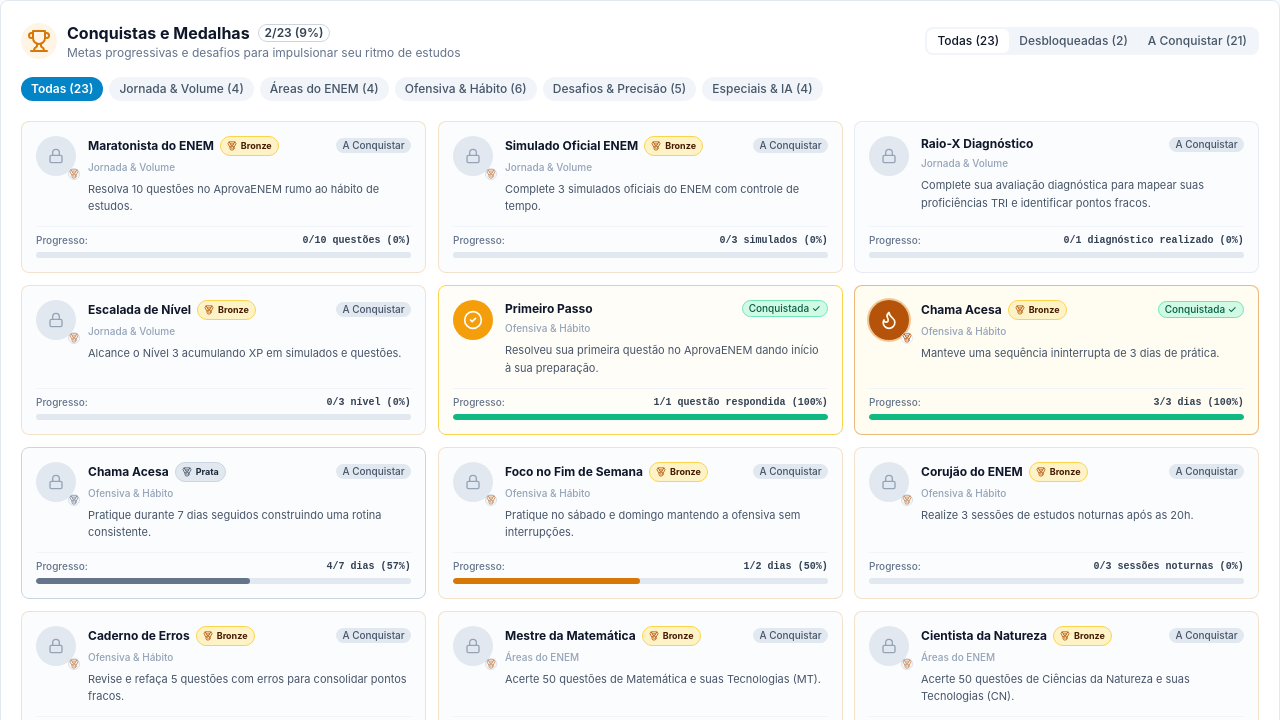
Test: BadgeShelf Component › never displays 100% progress on locked badges
Note: Click "A Conquistar" to view only locked badges
Click the tab "A Conquistar (21)".
click(1197, 41)  # box x1=1138 y1=29 x2=1257 y2=53
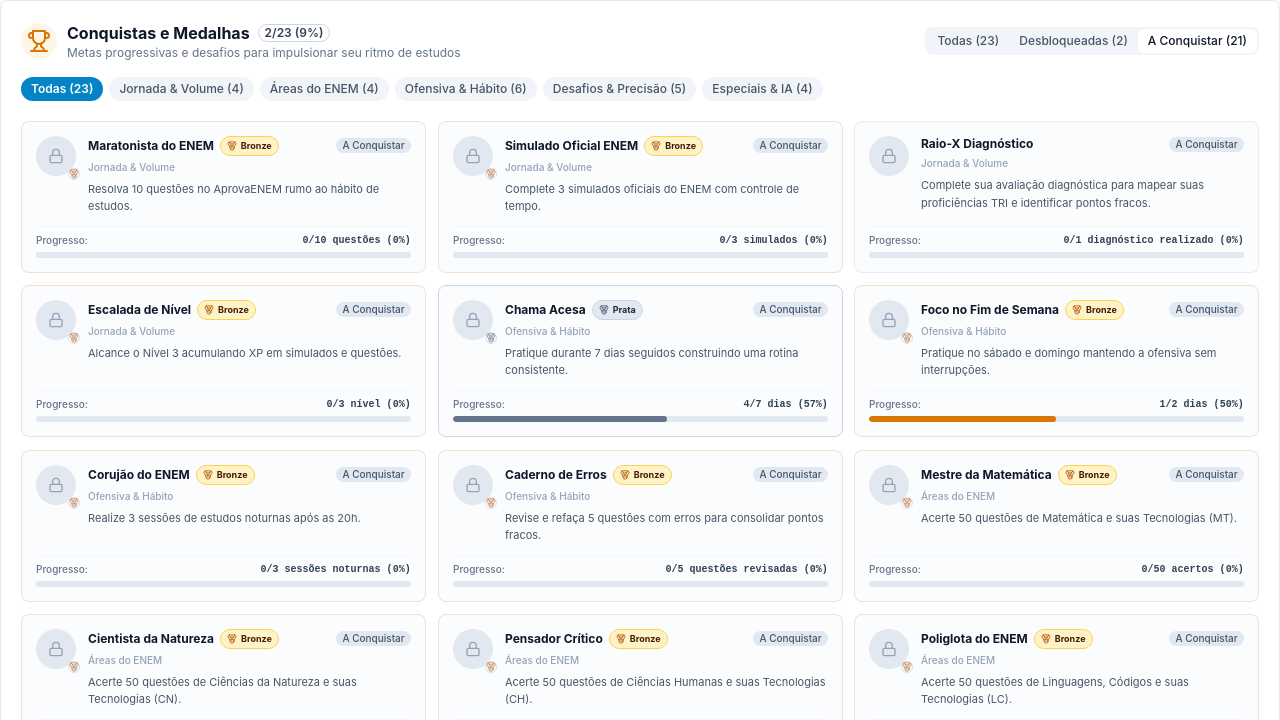
Expected: the text "Progresso:" below "Maratonista do ENEM" is shown, x1=36 y1=234 x2=88 y2=246
Result: the text "(100%)" is gone
